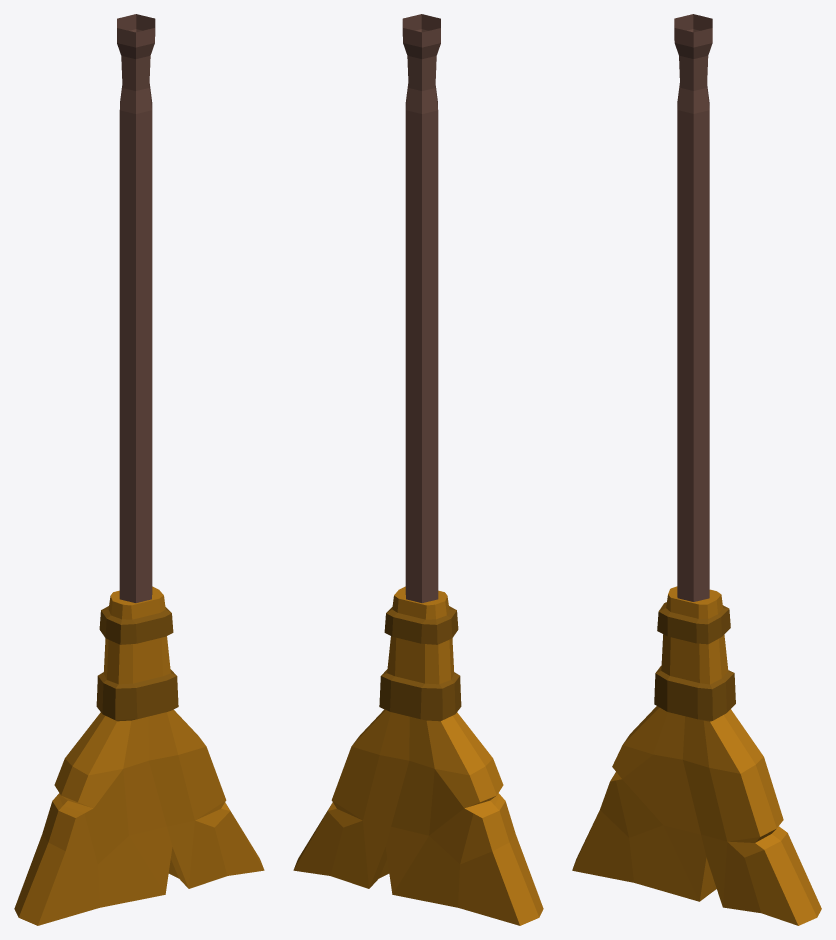
File: Escoba.FBX
3 views of the same model, side by side, from view 1: azimuth 30°, elevation 25°; view 2: azimuth 150°, elevation 25°; view 3: azimuth 330°, elevation 25° (orthographic).
Visible parts, largest first — view 1: Cylinder001; view 2: Cylinder001; view 3: Cylinder001.
Boxes of the visible parts, x1,y1,x2,y2 form: Cylinder001: (14,14,264,925); Cylinder001: (293,14,543,925); Cylinder001: (572,14,821,925).
Bounding box in the file's own units: 41.56 × 143 × 8.69.
